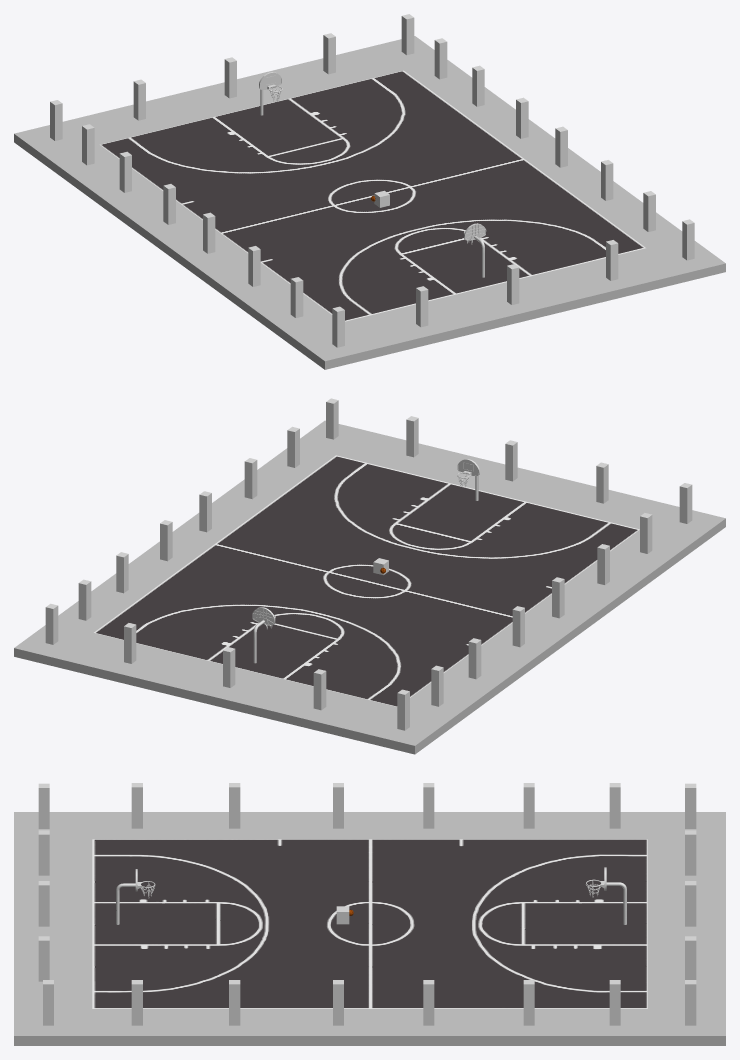
The model's file is cHAINTEST.FBX.
3 renders of one model, top to bottom at view 1: azimuth 30°, elevation 25°; view 2: azimuth 150°, elevation 25°; view 3: azimuth 270°, elevation 25°, orthographic. The views are drawn at different scales.
Visible parts, largest first — view 1: Court', Box001; view 2: Court', Box001; view 3: Court', Box001, Box012, Box013, Box015, Box016, Box017, Box018, Box020, Box021, Box024, Box025 (+12 smaller).
Boxes of the visible parts, x1=… form: Court': x1=100, y1=70, x2=645, y2=321; Box001: x1=14, y1=36, x2=725, y2=369; Court': x1=94, y1=455, x2=639, y2=706; Box001: x1=14, y1=420, x2=725, y2=754; Court': x1=92, y1=839, x2=647, y2=1008; Box001: x1=14, y1=812, x2=725, y2=1045; Box012: x1=685, y1=830, x2=696, y2=875; Box013: x1=685, y1=881, x2=696, y2=926; Box015: x1=685, y1=980, x2=696, y2=1025; Box016: x1=609, y1=980, x2=620, y2=1025; Box017: x1=523, y1=980, x2=534, y2=1025; Box018: x1=423, y1=980, x2=434, y2=1025; Box020: x1=229, y1=980, x2=240, y2=1025; Box021: x1=131, y1=980, x2=142, y2=1025; Box024: x1=38, y1=830, x2=49, y2=875; Box025: x1=38, y1=881, x2=49, y2=926.
Bounding box in the file's own units: 71.44 × 9.96 × 95.94.
